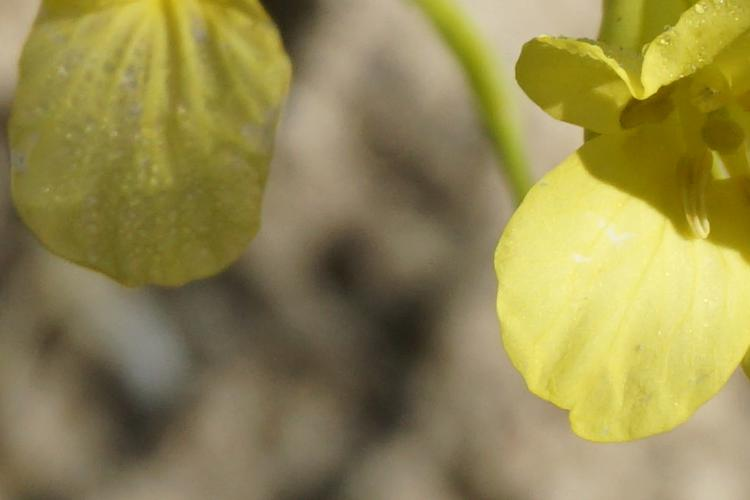yellow: (518, 16, 750, 450), (12, 3, 279, 290)
